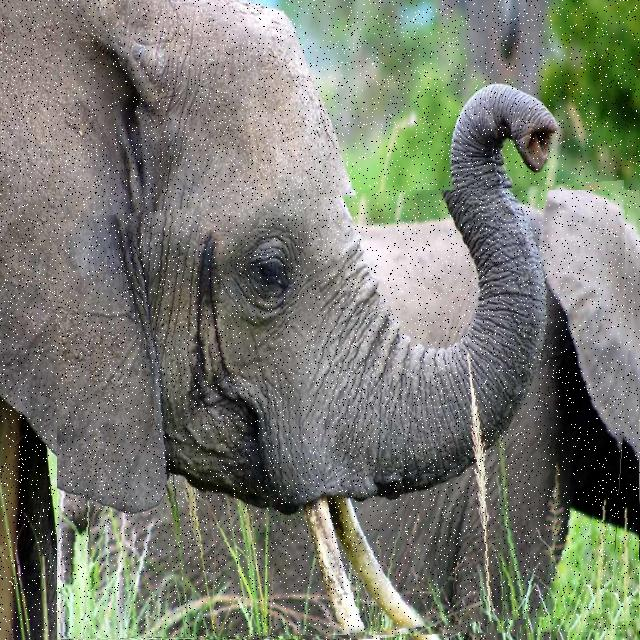elephant: (57, 190, 640, 640)
